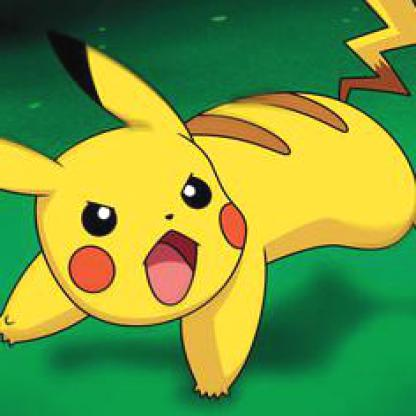Pikachu: (2, 11, 415, 415)
